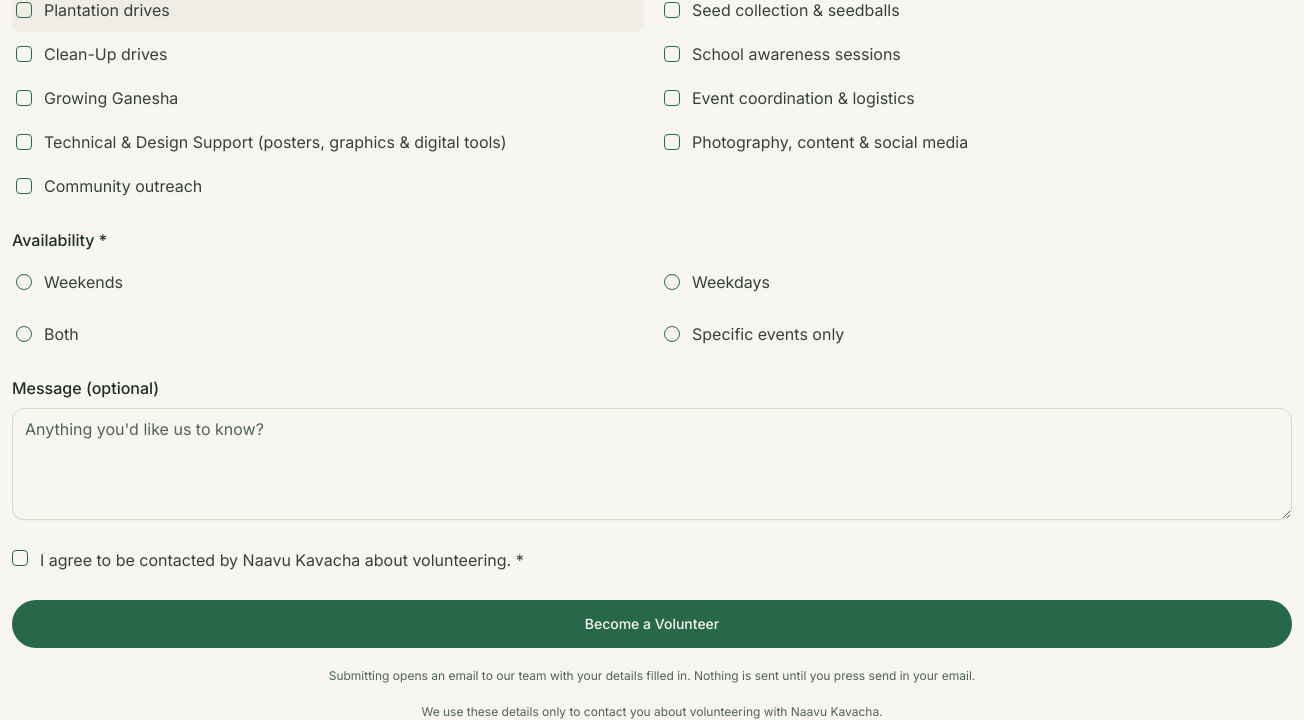
volunteer form › shows inline errors and sends nothing when empty
(page scrolled)
Click the button "Become a Volunteer" at x=652, y=624, box top-left (12, 600), bottom-right (1292, 648)
(page scrolled)
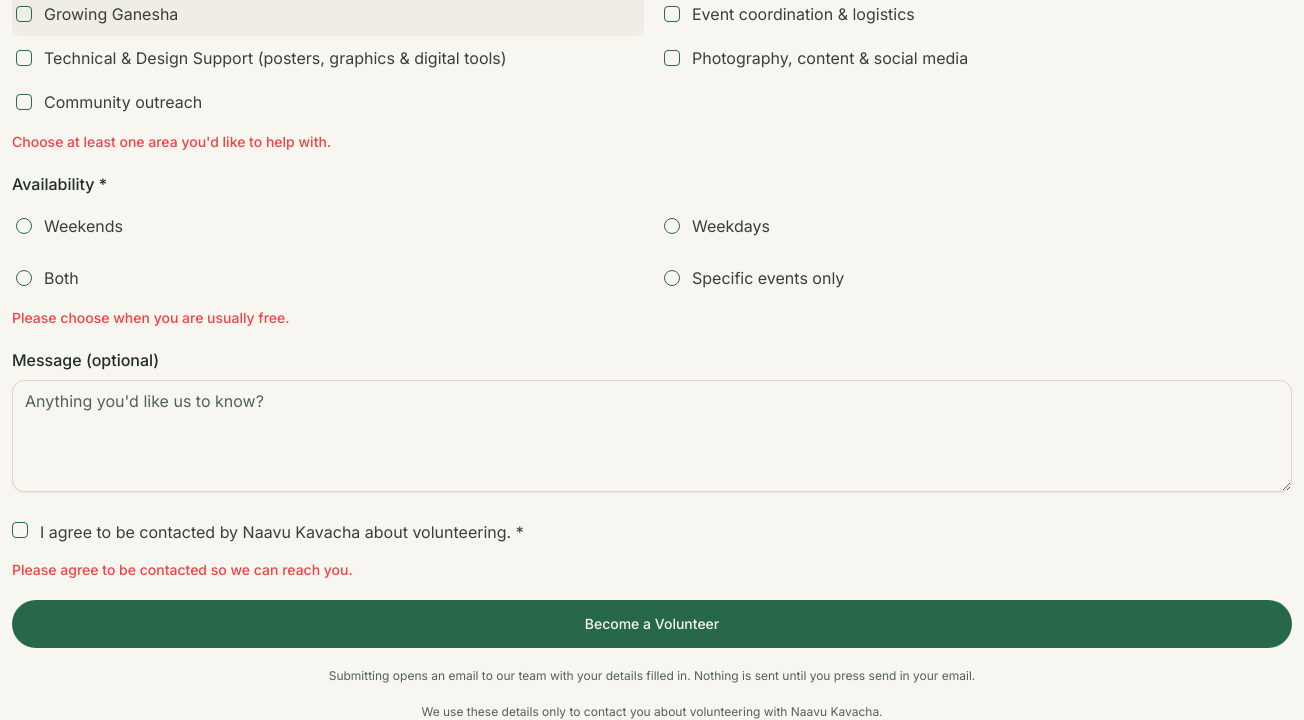
Check: the text "Choose at least one area you'd like to help with." is shown, box top-left (12, 133), bottom-right (331, 150)
Check: the text "Please choose when you are usually free." is shown, box top-left (12, 309), bottom-right (290, 326)
Check: the text "Please agree to be contacted so we can reach you." is shown, box top-left (12, 561), bottom-right (353, 578)
